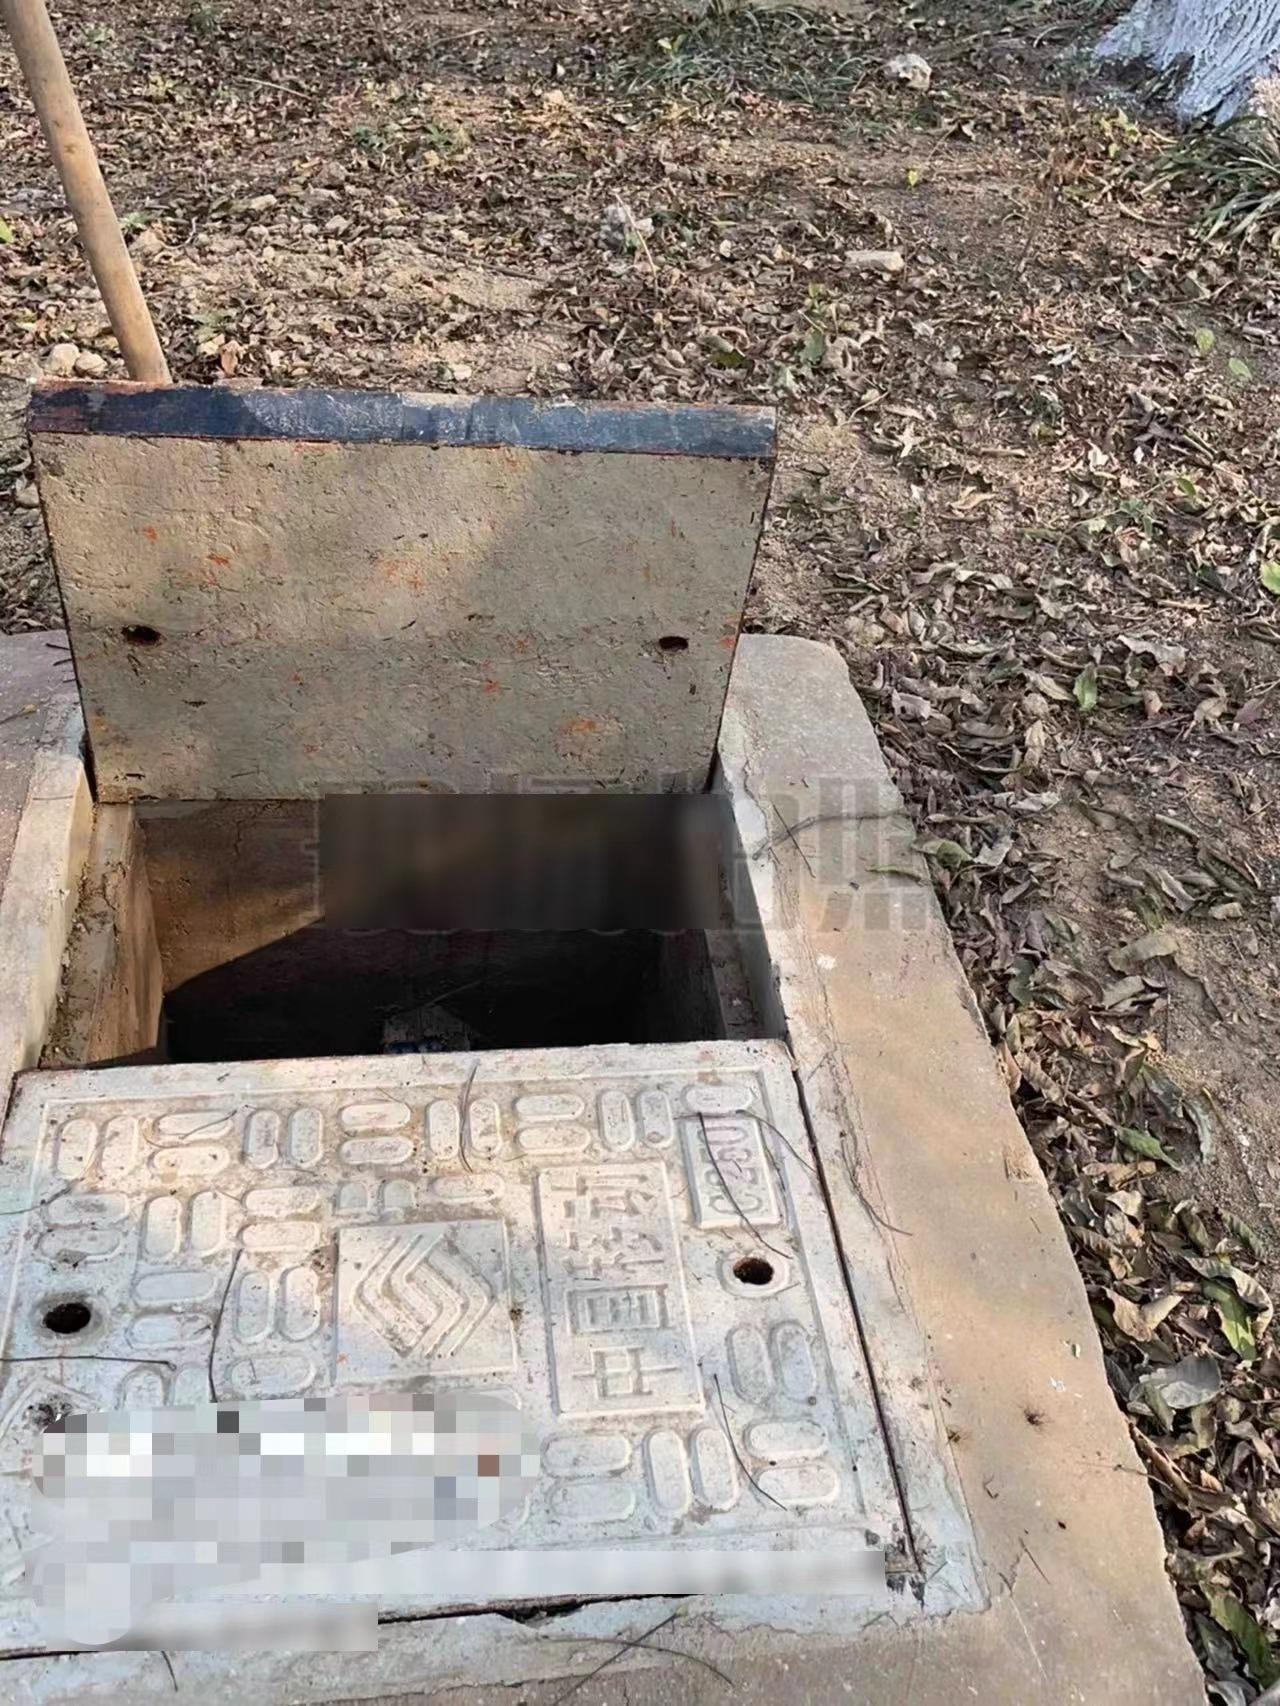wellcover: (15, 341, 1015, 1693)
